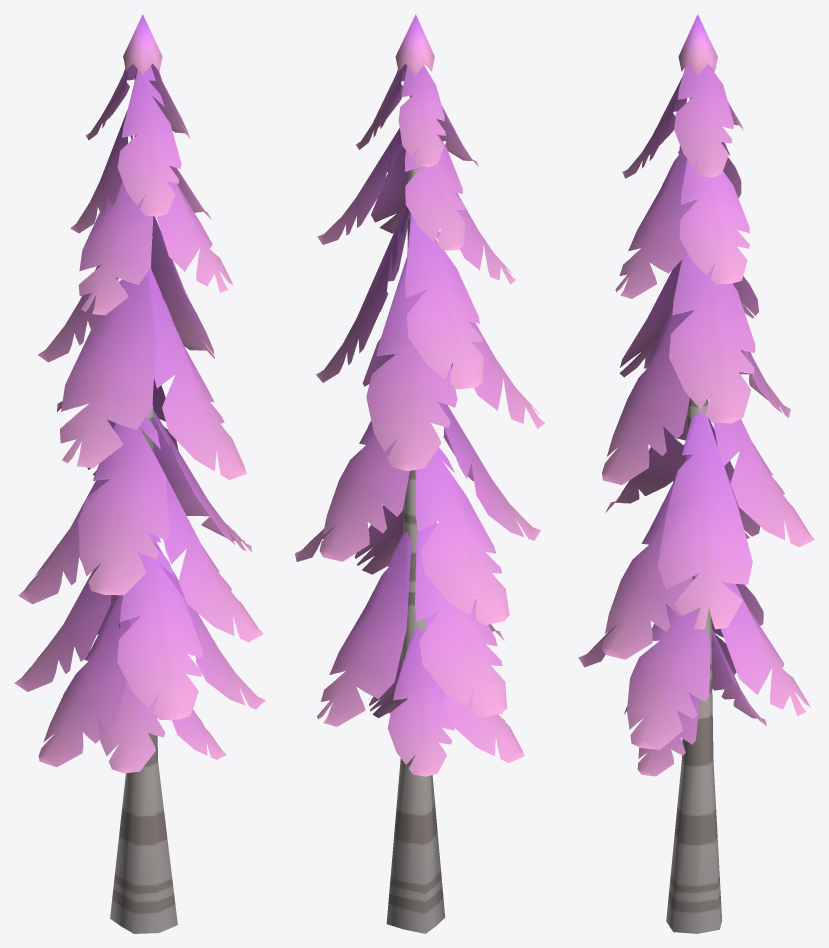
Rendered from TreeV4.fbx.
The picture shows the model from 3 angles, left to right: view 1: azimuth 30°, elevation 25°; view 2: azimuth 150°, elevation 25°; view 3: azimuth 270°, elevation 25°; orthographic projection.
Parts seen in each view (by area): view 1: TreeV4; view 2: TreeV4; view 3: TreeV4.
Boxes of the visible parts, <box> form: TreeV4: <box>14,14,265,933</box>; TreeV4: <box>295,14,544,933</box>; TreeV4: <box>578,14,814,933</box>.
Size of the model in its own units: 17.7 by 69.21 by 16.36.
1 material, 1 textured.
